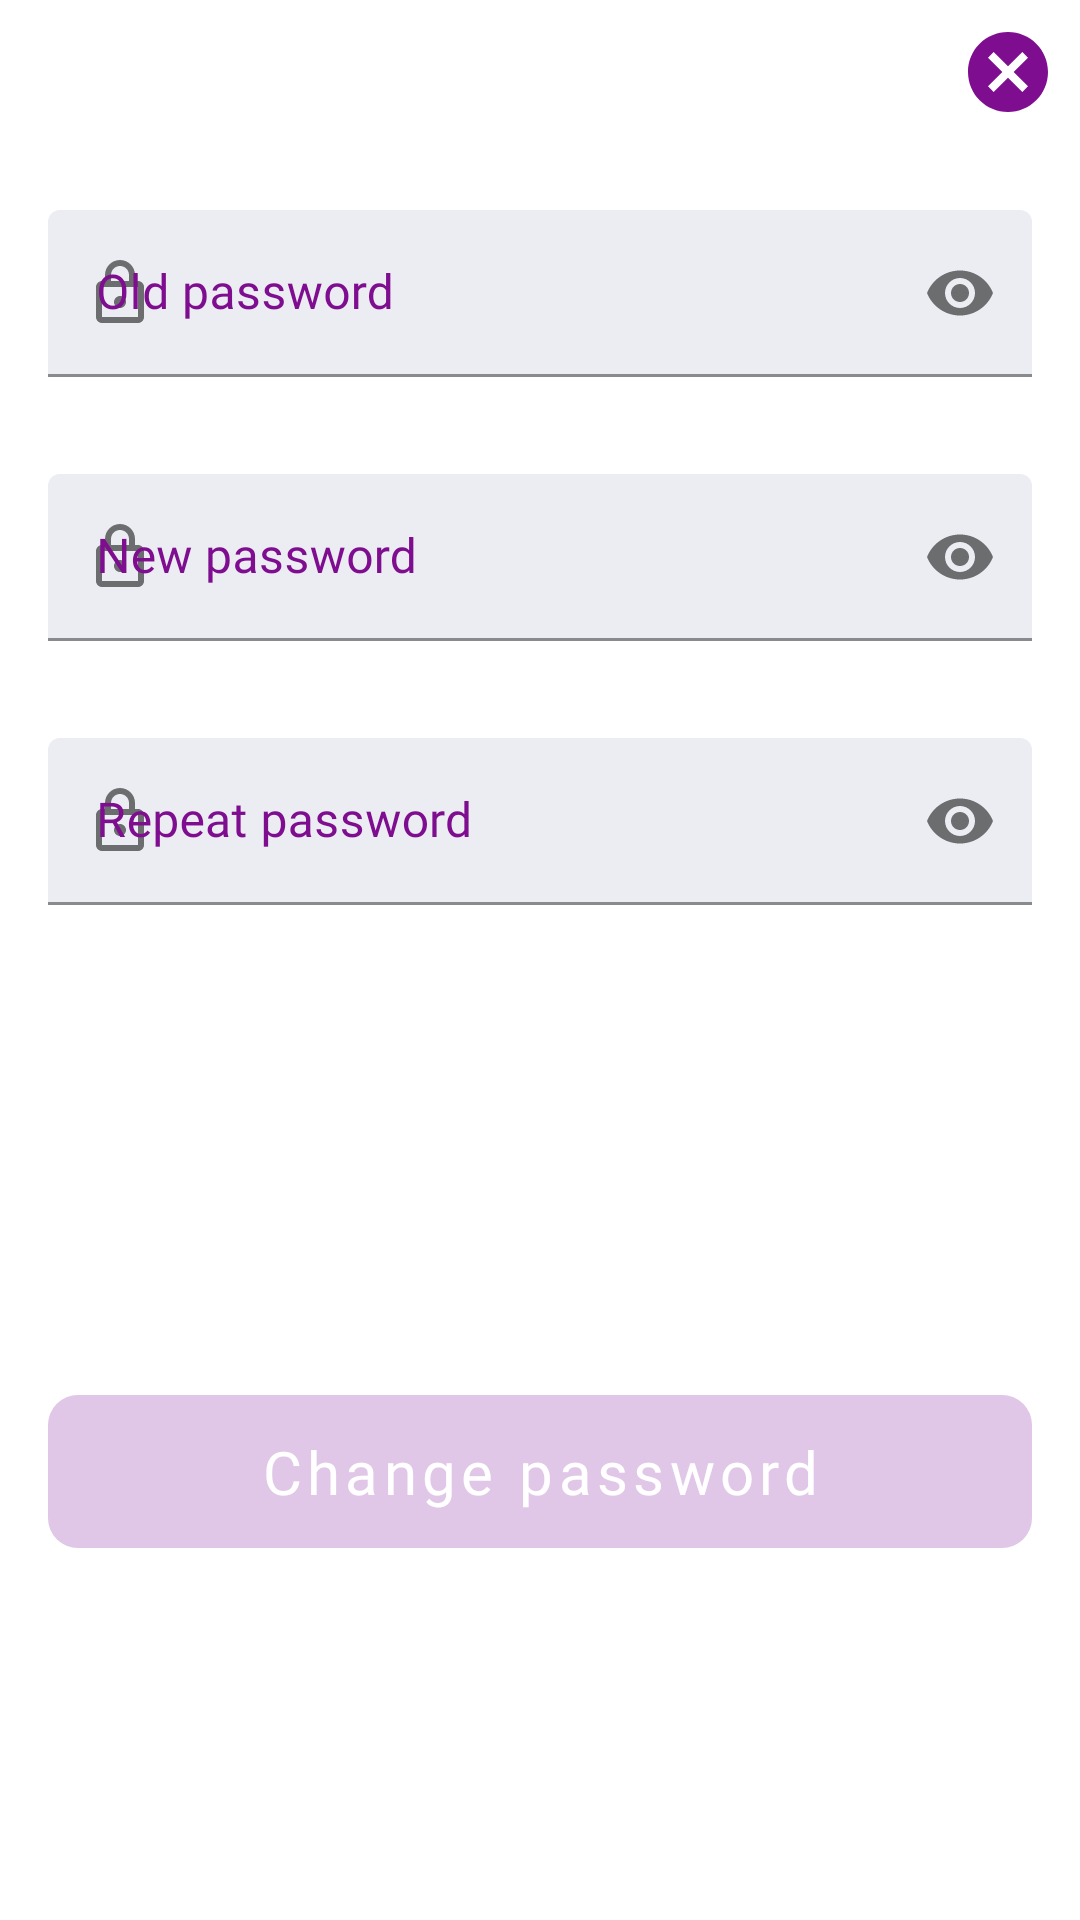

Icons on this 1080×1920 Android screen, each with its box as (x1, y1, x2, y2):
Close: (968, 32, 1048, 112)
